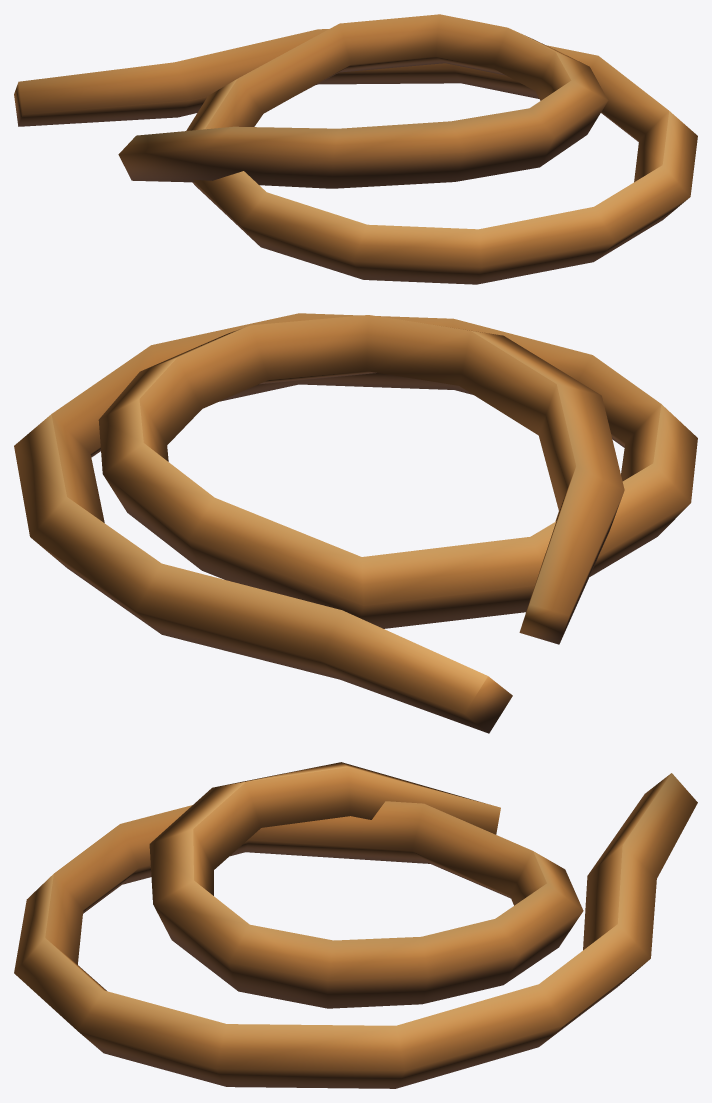
The model's file is Rope_Pile_2A.fbx.
3 renders of one model, top to bottom at view 1: azimuth 30°, elevation 25°; view 2: azimuth 150°, elevation 25°; view 3: azimuth 270°, elevation 25°, orthographic. The views are drawn at different scales.
Parts seen in each view (by area): view 1: Rope_Pile_2A; view 2: Rope_Pile_2A; view 3: Rope_Pile_2A.
Boxes of the visible parts, left/top/right/bottom form: Rope_Pile_2A: left=14, top=14, right=697, bottom=284; Rope_Pile_2A: left=14, top=313, right=697, bottom=733; Rope_Pile_2A: left=14, top=762, right=697, bottom=1088.
Bounding box in the file's own units: 71.68 × 15.65 × 75.7.
